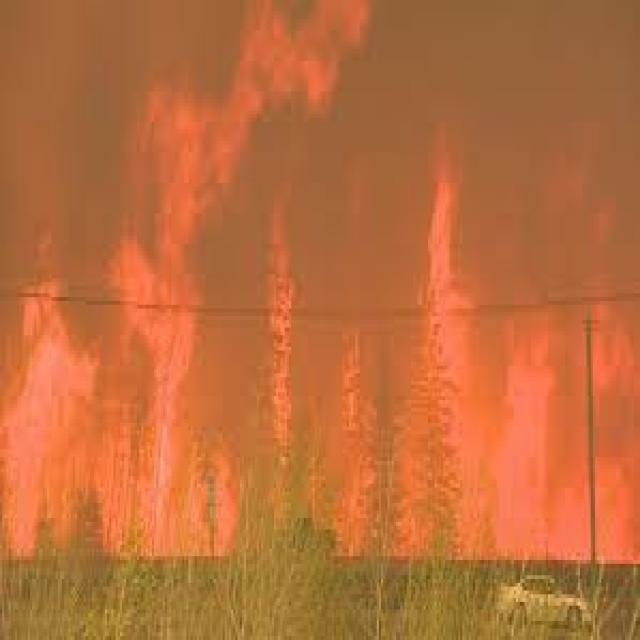Fire: (8, 225, 640, 564), (97, 374, 188, 546), (254, 206, 300, 497), (495, 322, 550, 561), (427, 148, 459, 557), (243, 2, 343, 110), (156, 70, 237, 192), (12, 332, 72, 494), (580, 273, 640, 430), (568, 453, 633, 590), (112, 198, 183, 313)
Smoke: (301, 114, 416, 309), (0, 15, 107, 224), (474, 25, 629, 156), (466, 169, 565, 304), (81, 1, 144, 170)
